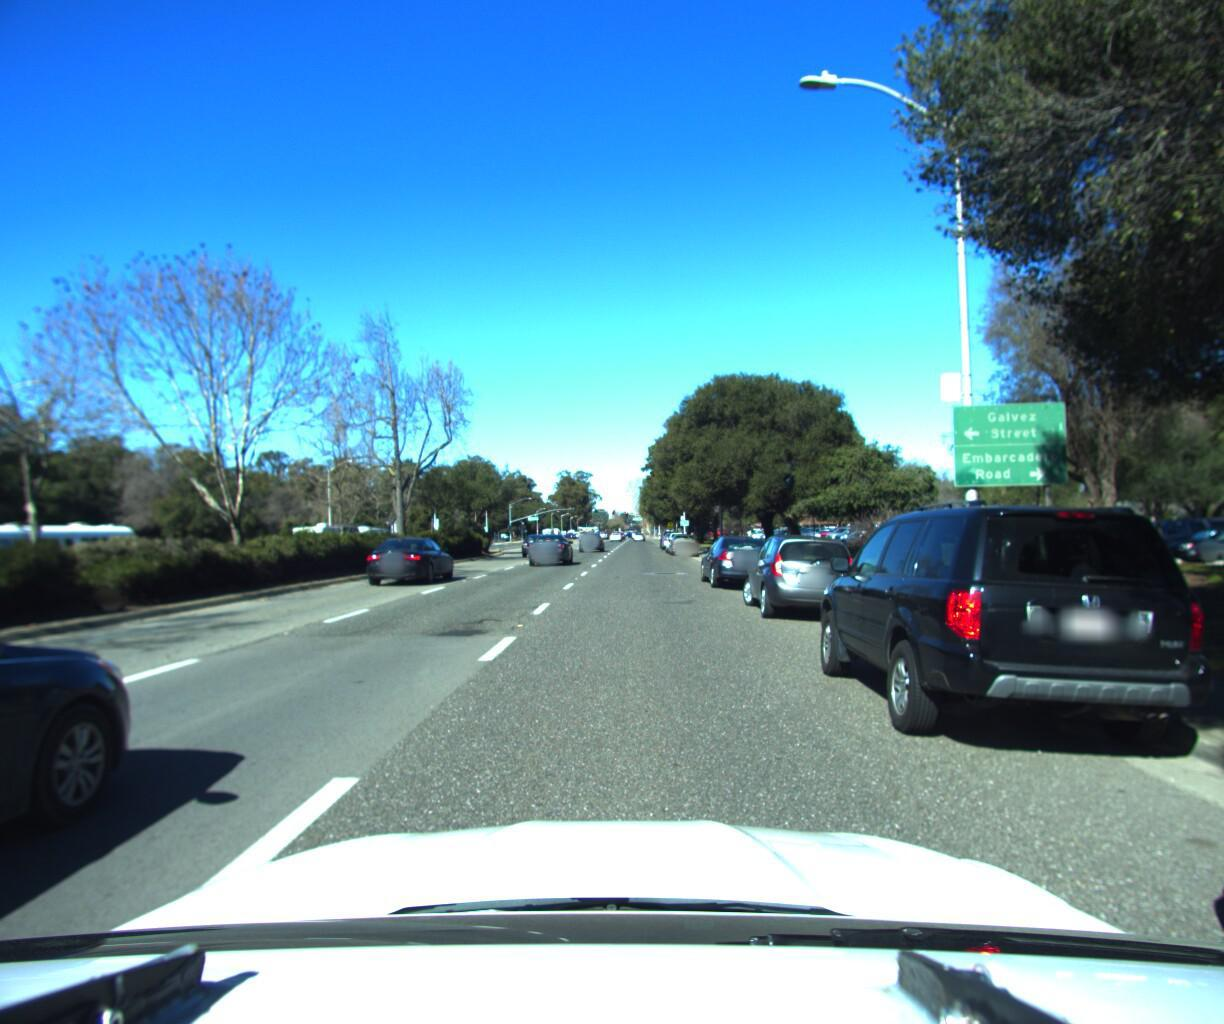car: (799, 476, 1224, 778), (745, 528, 865, 620), (695, 530, 782, 592), (360, 533, 458, 587), (525, 529, 570, 563), (518, 531, 561, 558), (664, 530, 699, 555), (575, 530, 603, 551)
other_vehicle: (284, 521, 360, 566)
